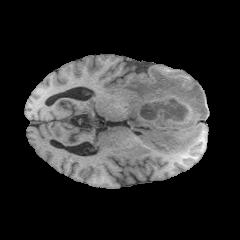glioma: (123, 68, 208, 153)
